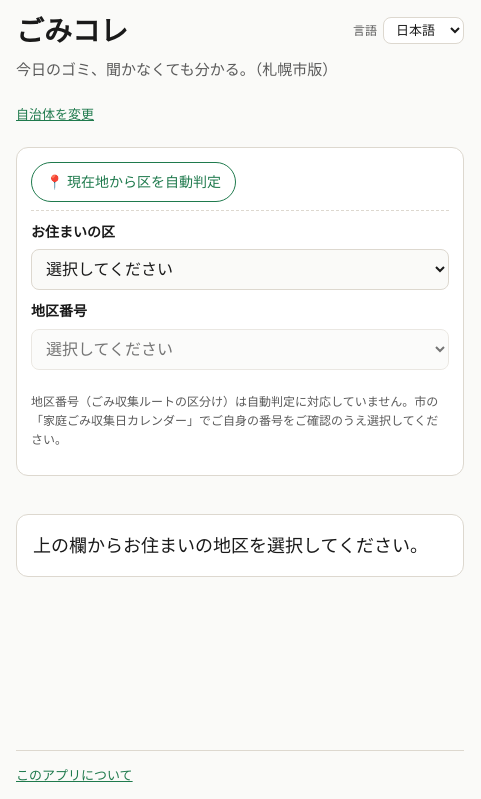
Scenario: App › shows a manual-selection message when location access is denied
The width and height of the screenshot is (481, 799).
Click the button "📍 現在地から区を自動判定".
click(134, 182)  # box [31,162,236,202]
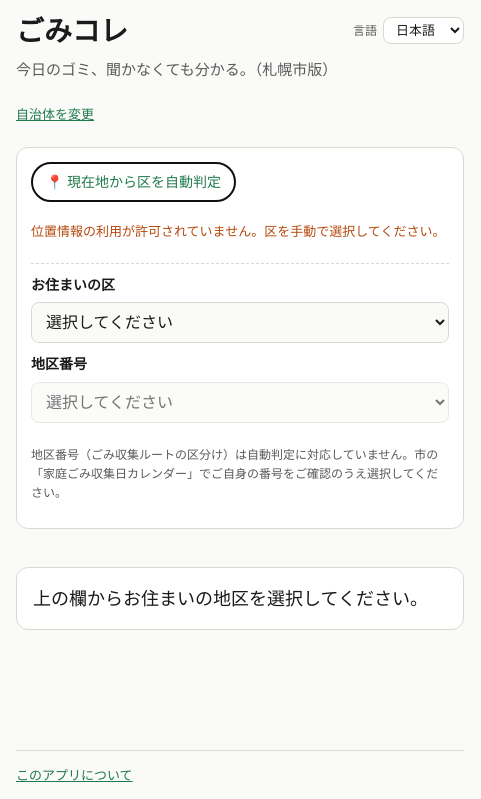
Check: the text "位置情報の利用が許可されていません。区を手動で選択してください。" is shown, box [31,221,449,242]
